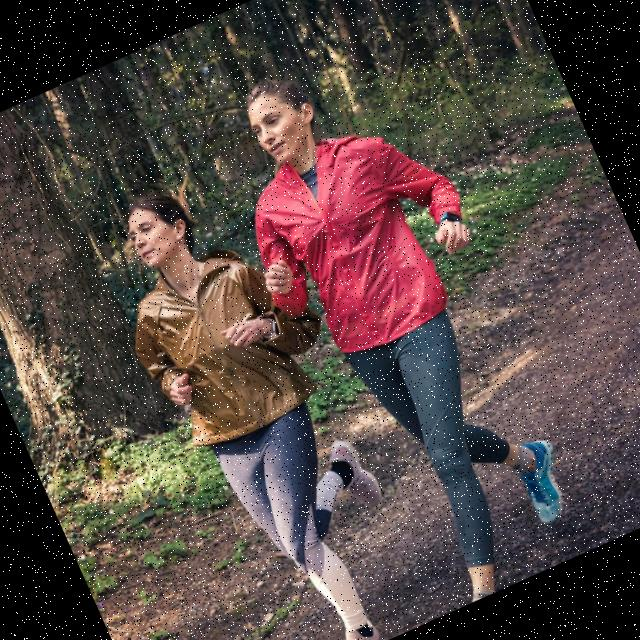Person: (187, 23, 613, 627), (79, 150, 451, 640)
